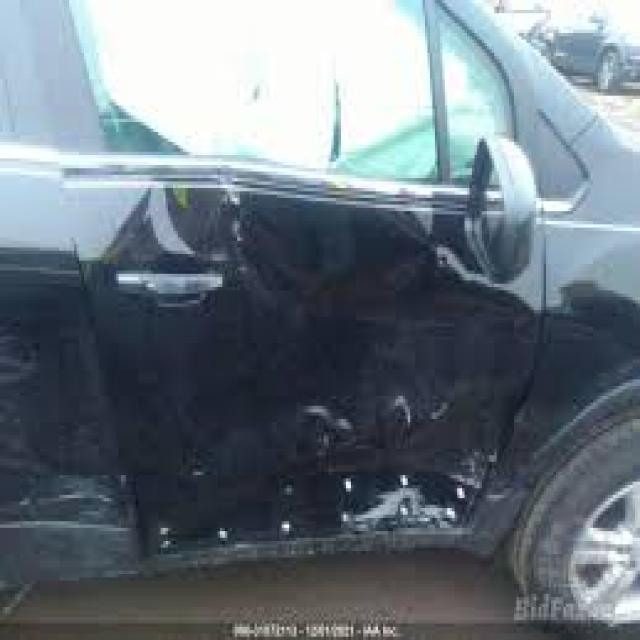damaged-door: (41, 0, 534, 564)
